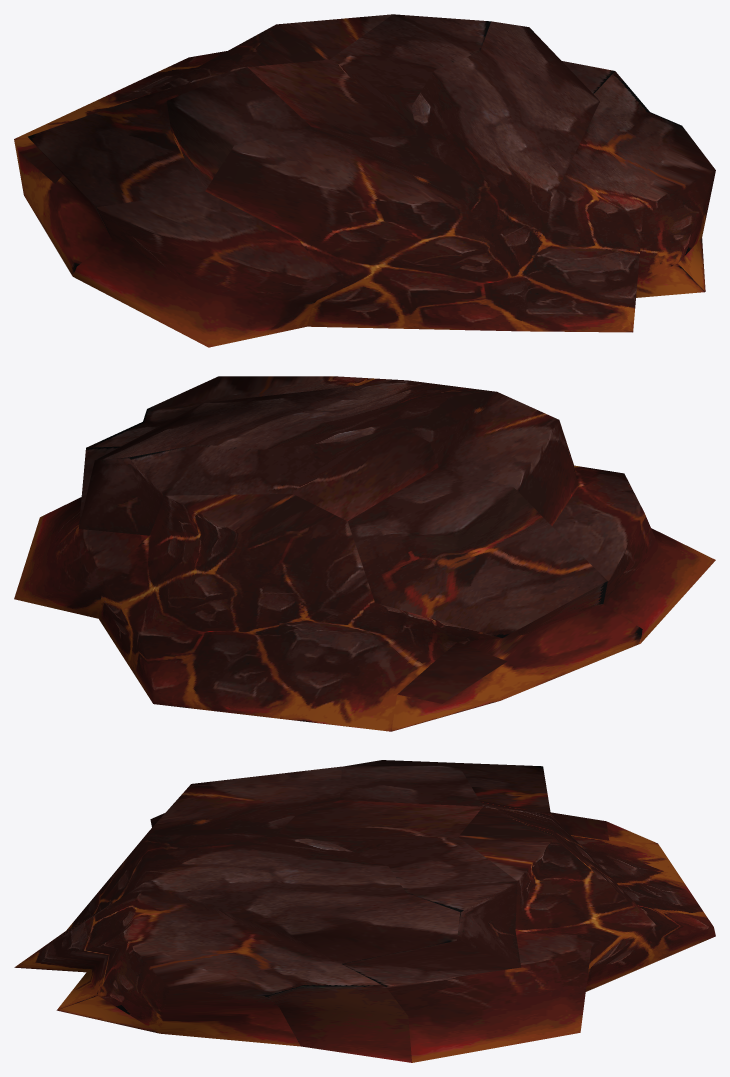
The model's file is hs_shan_11.FBX.
3 views of the same model, one above another, from view 1: azimuth 30°, elevation 25°; view 2: azimuth 150°, elevation 25°; view 3: azimuth 270°, elevation 25° (orthographic). The views are drawn at different scales.
Visible parts, largest first — view 1: hs_shan_18; view 2: hs_shan_18; view 3: hs_shan_18.
Boxes of the visible parts, x1=… form: hs_shan_18: x1=14, y1=14, x2=715, y2=347; hs_shan_18: x1=14, y1=376, x2=715, y2=731; hs_shan_18: x1=14, y1=760, x2=715, y2=1062.
Size of the model in its own units: 117 by 21.64 by 133.
